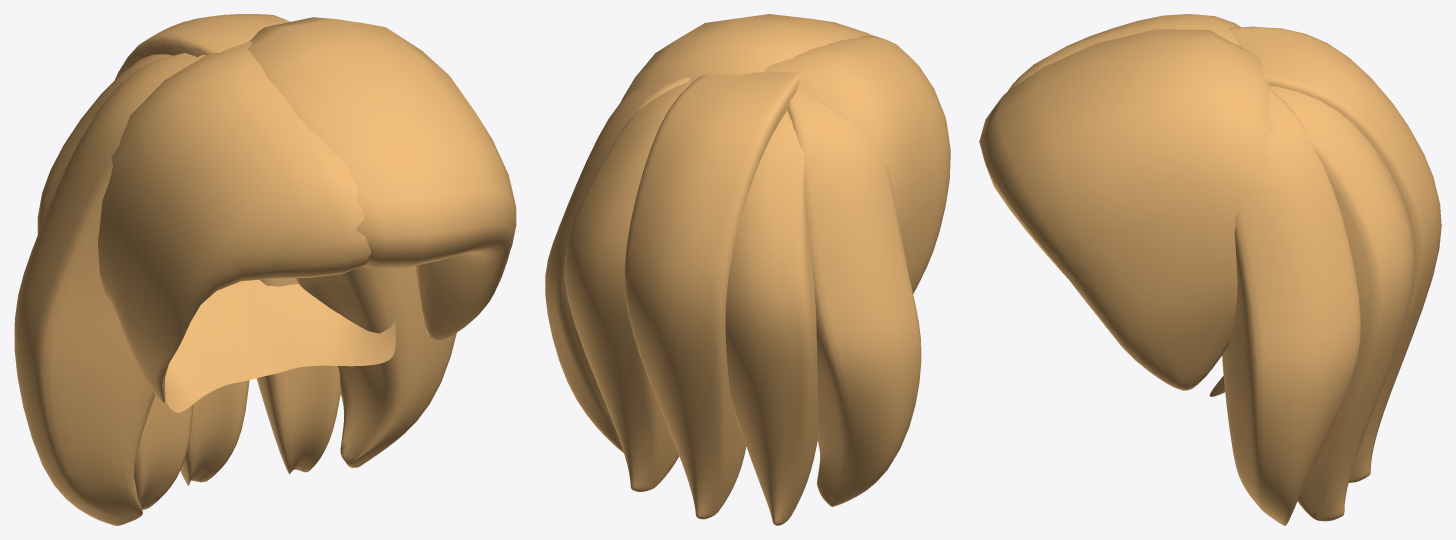
File: hair-007-b657c3c5.glb
3 renders of one model, left to right at view 1: azimuth 30°, elevation 25°; view 2: azimuth 150°, elevation 25°; view 3: azimuth 270°, elevation 25°, orthographic. The views are drawn at different scales.
Parts seen in each view (by area): view 1: Geo_Female_White_Hair.011; view 2: Geo_Female_White_Hair.011; view 3: Geo_Female_White_Hair.011.
Part boxes in pixels (x1,y1,x2,y2): Geo_Female_White_Hair.011: [14, 14, 516, 525]; Geo_Female_White_Hair.011: [545, 14, 950, 525]; Geo_Female_White_Hair.011: [979, 14, 1441, 525].
Size of the model in its own units: 2.06 by 2.33 by 2.17.
